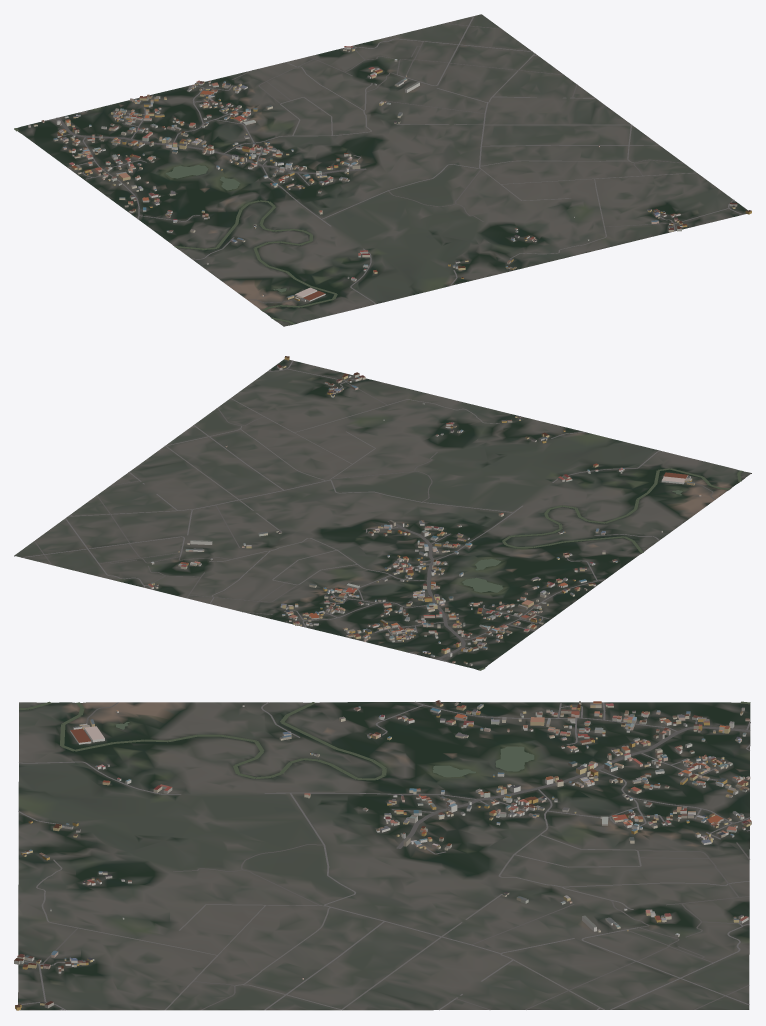
3 views of the same model, one above another, from view 1: azimuth 30°, elevation 25°; view 2: azimuth 150°, elevation 25°; view 3: azimuth 270°, elevation 25° (orthographic). The views are drawn at different scales.
Visible parts, largest first — view 1: ground, buildings, roads, water; view 2: ground, buildings, roads, water; view 3: ground, buildings, roads, water.
Part boxes in pixels (left/top/right/bottom): ground: left=14, top=14, right=747, bottom=326; buildings: left=28, top=46, right=751, bottom=301; roads: left=44, top=16, right=743, bottom=304; water: left=14, top=128, right=337, bottom=324; ground: left=14, top=359, right=751, bottom=670; buildings: left=148, top=356, right=701, bottom=665; roads: left=21, top=360, right=715, bottom=663; water: left=462, top=468, right=742, bottom=670; ground: left=18, top=702, right=750, bottom=1010; buildings: left=14, top=700, right=751, bottom=1010; roads: left=18, top=701, right=750, bottom=1010; water: left=19, top=701, right=750, bottom=780.
Bounding box in the file's own units: 1405 × 17.52 × 1415.
